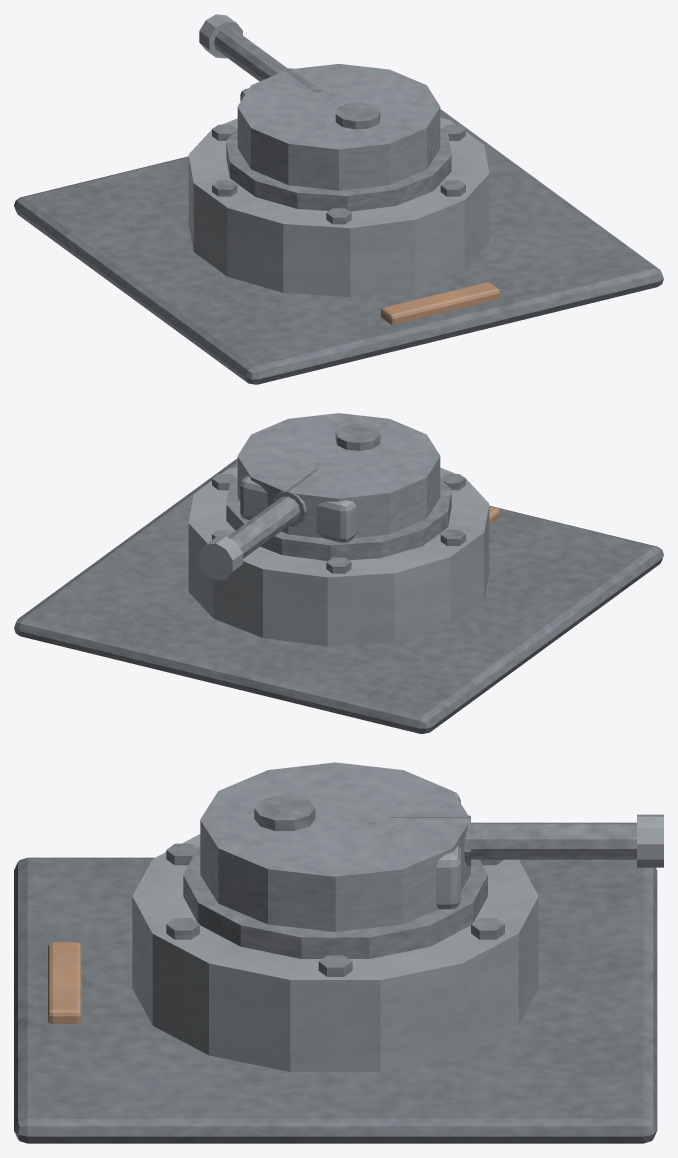
Rendered from dir_turret.glb.
3 renders of one model, top to bottom at view 1: azimuth 30°, elevation 25°; view 2: azimuth 150°, elevation 25°; view 3: azimuth 270°, elevation 25°, orthographic. The views are drawn at different scales.
Visible parts, largest first — view 1: dir_turret; view 2: dir_turret; view 3: dir_turret.
Boxes of the visible parts, x1,y1,x2,y2 form: dir_turret: [14, 14, 663, 384]; dir_turret: [14, 413, 663, 733]; dir_turret: [14, 762, 663, 1143].
Bounding box in the file's own units: 1.9 × 0.6675 × 1.92.
Materials: 1 (1 with a texture image).
